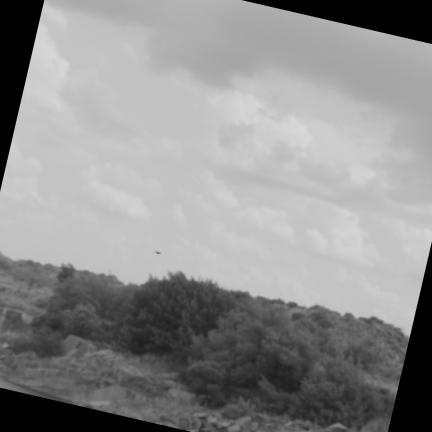Shahed: (155, 251, 161, 253)
